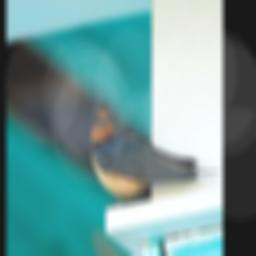Swallow: (87, 95, 220, 205)
